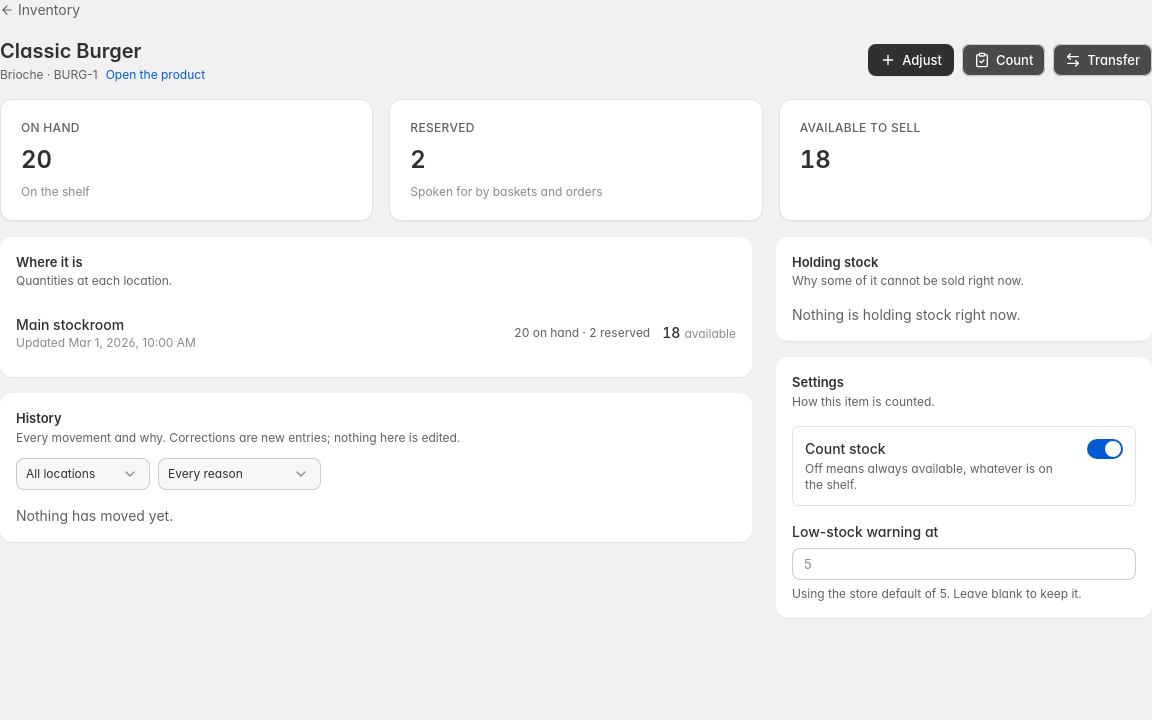
Test: StockMoveDialog › shows the correction a count implies without computing the movement
expect the heading "Classic Burger" is shown: met, box [0,37,142,65]
Click the button "Count". click: (1004, 60)
box: [962,44,1045,76]
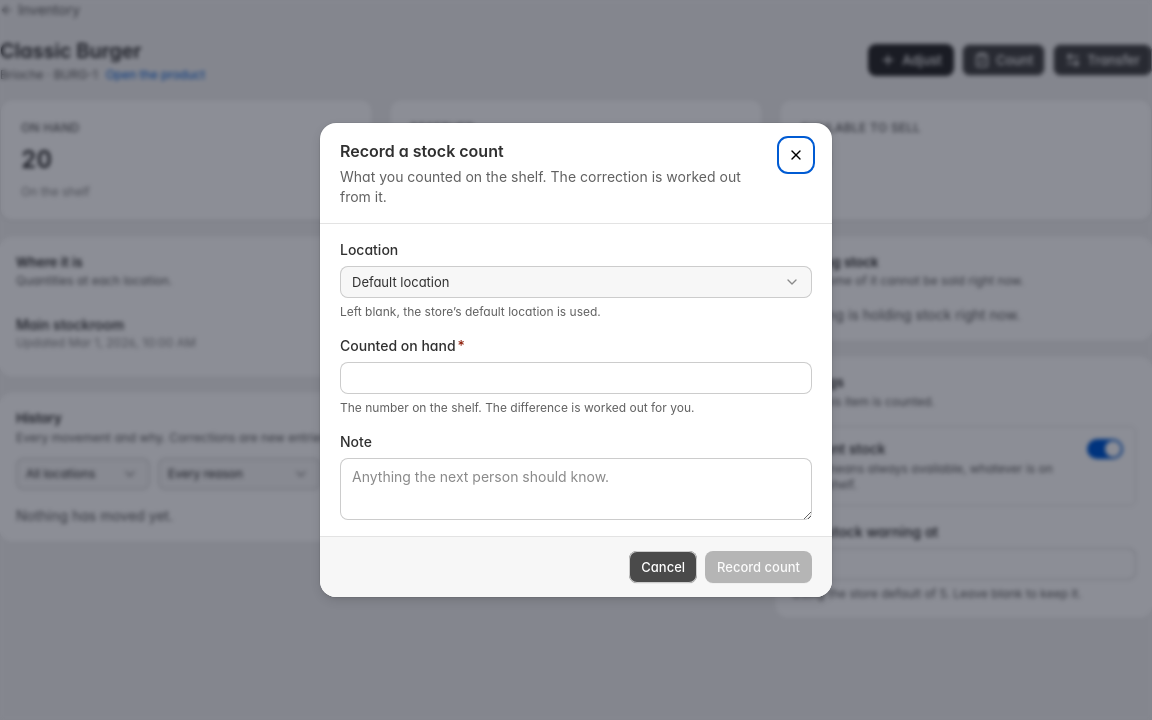
Type "17" into the number field labelled "Counted on hand*". click: (576, 378)
box: [340,362,812,394]
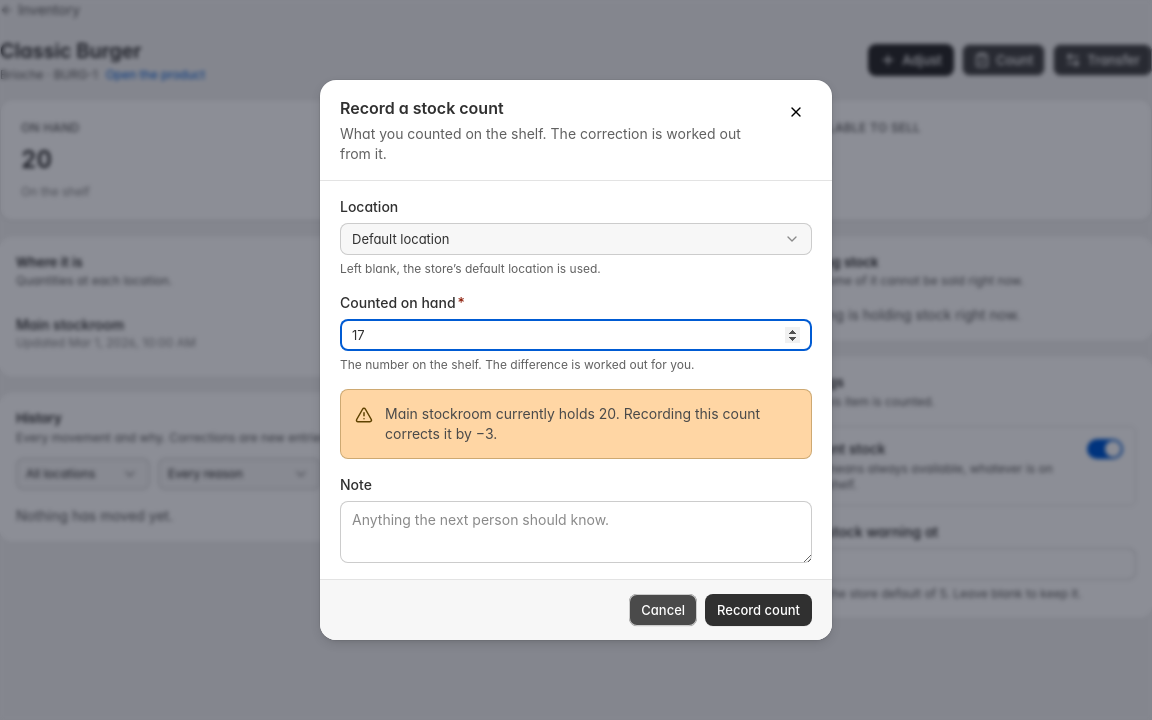
expect the text "corrects it by −3" is shown: met, box [385,405,760,442]
